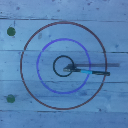Axe Tip: (66, 66, 76, 69)
